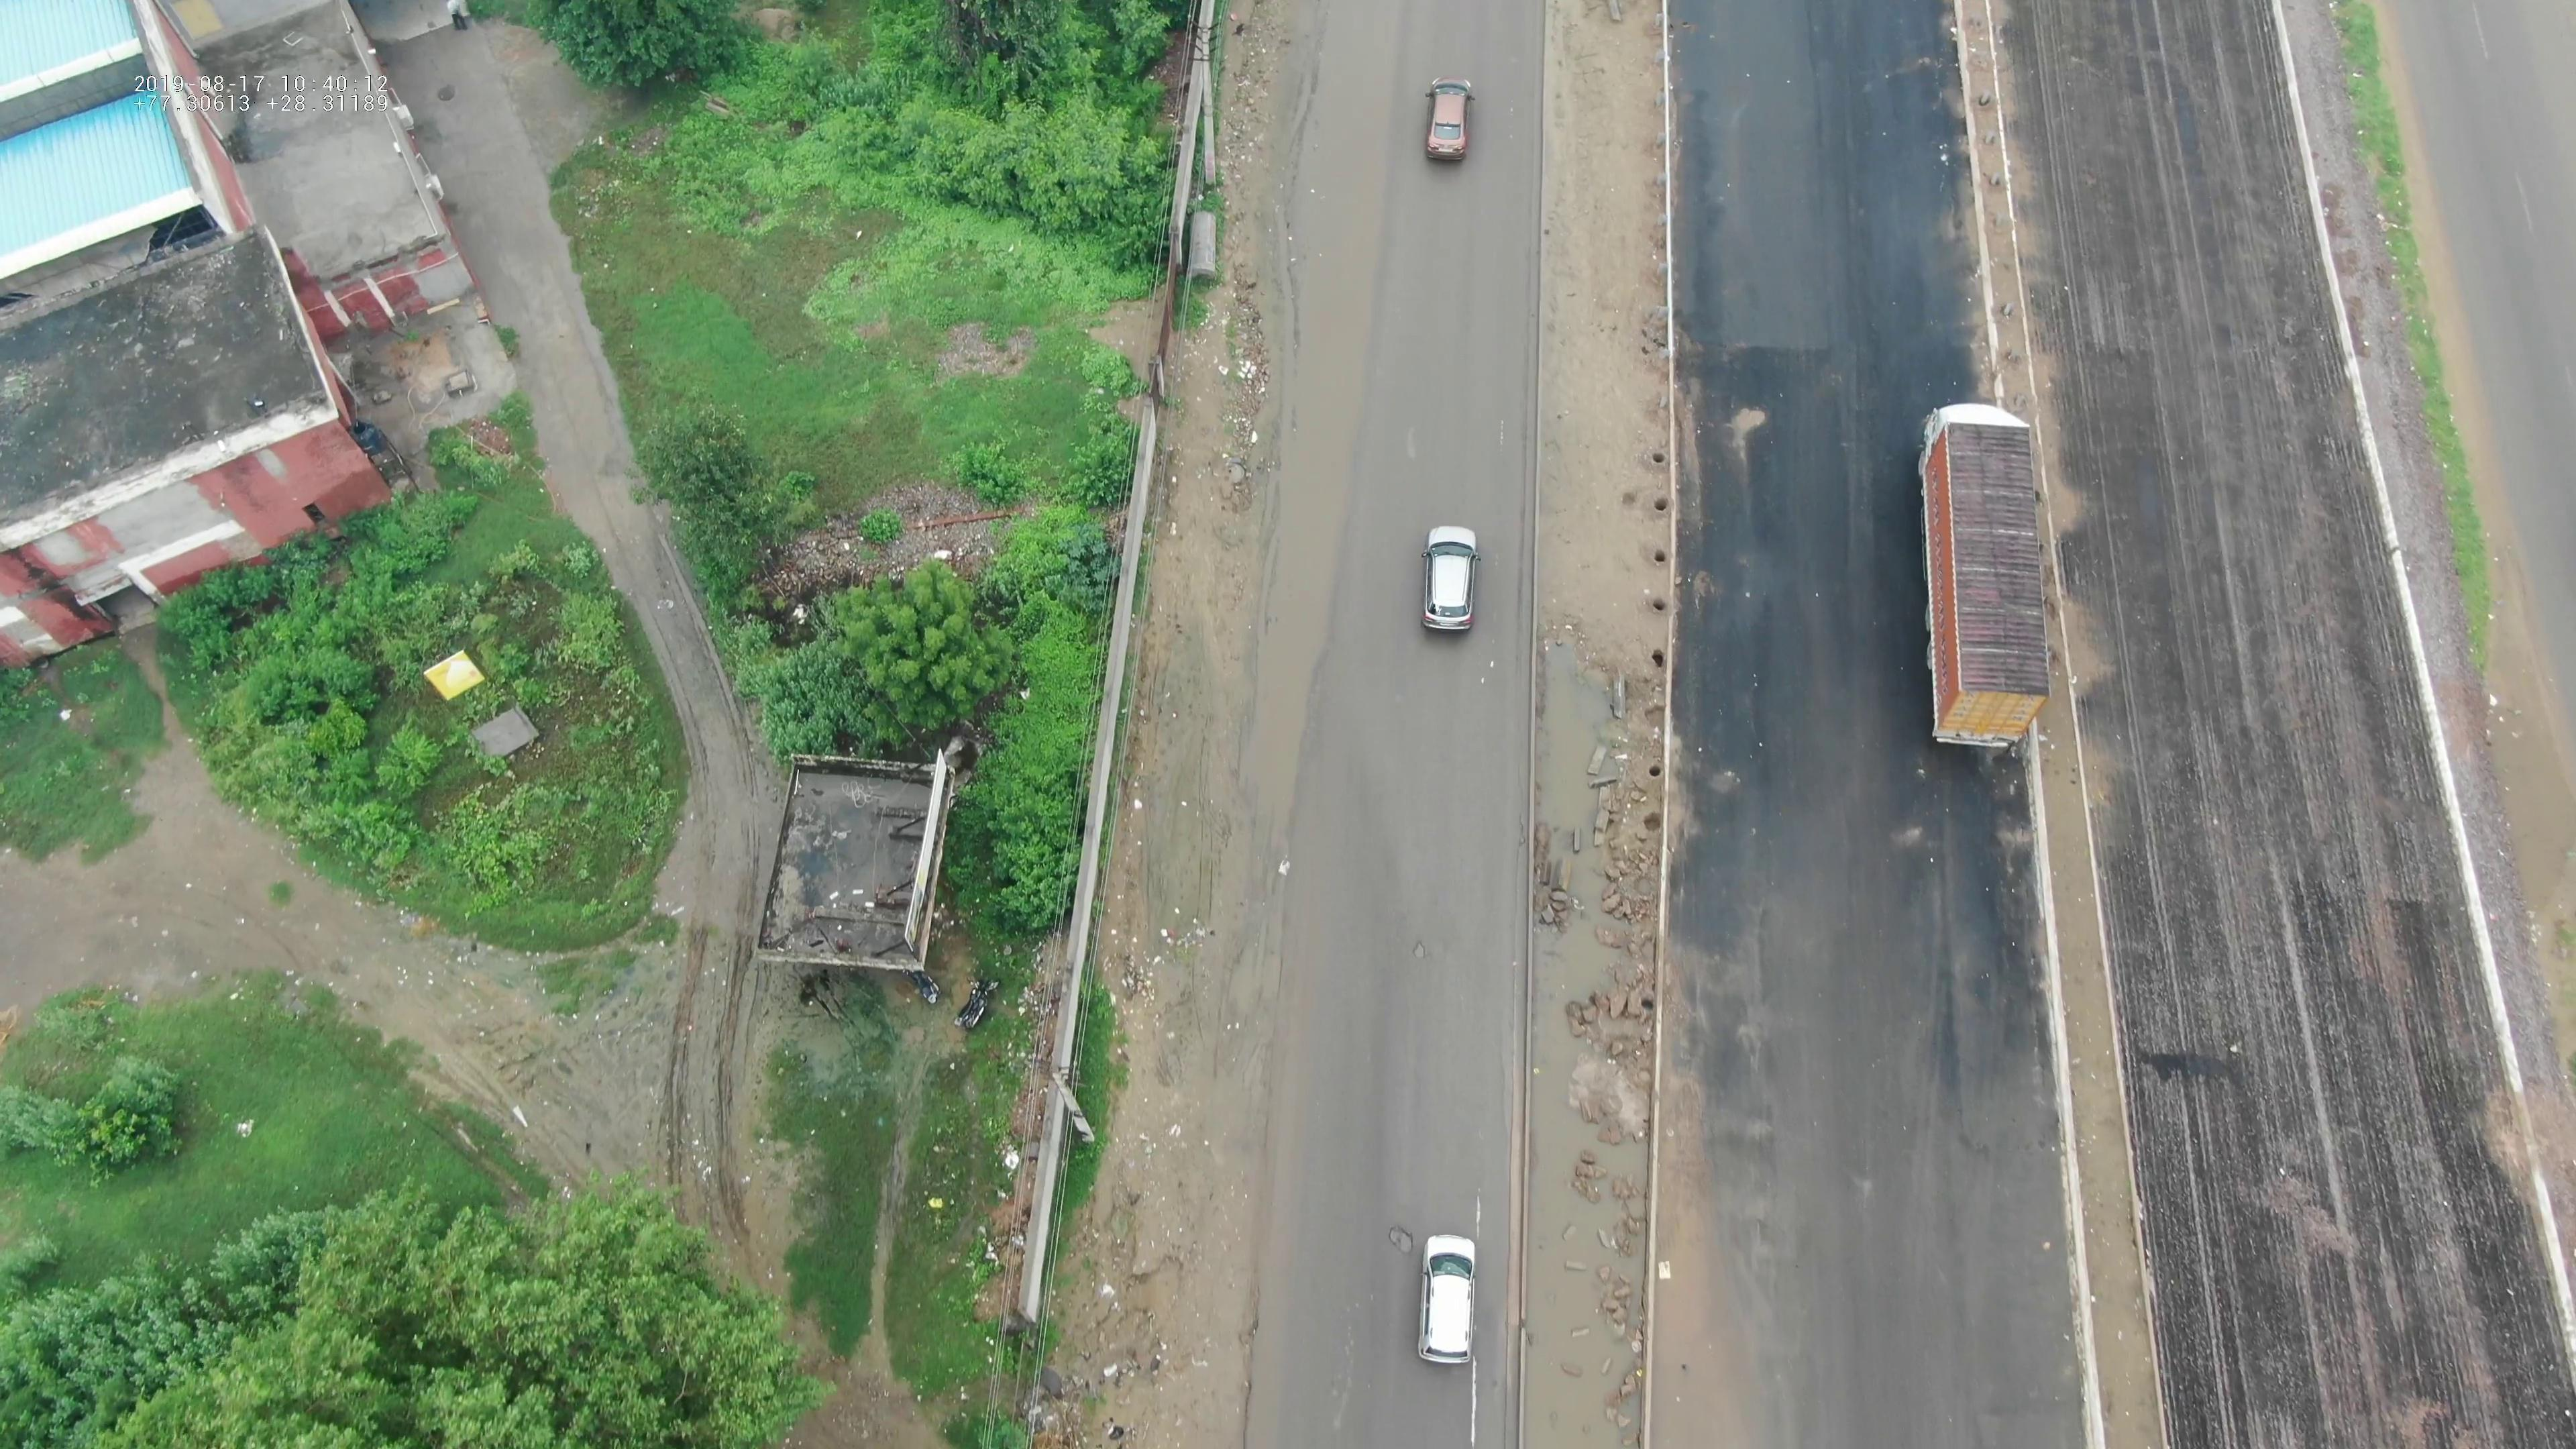Waterlogging: (1221, 272, 1366, 814), (1258, 9, 1396, 280)
